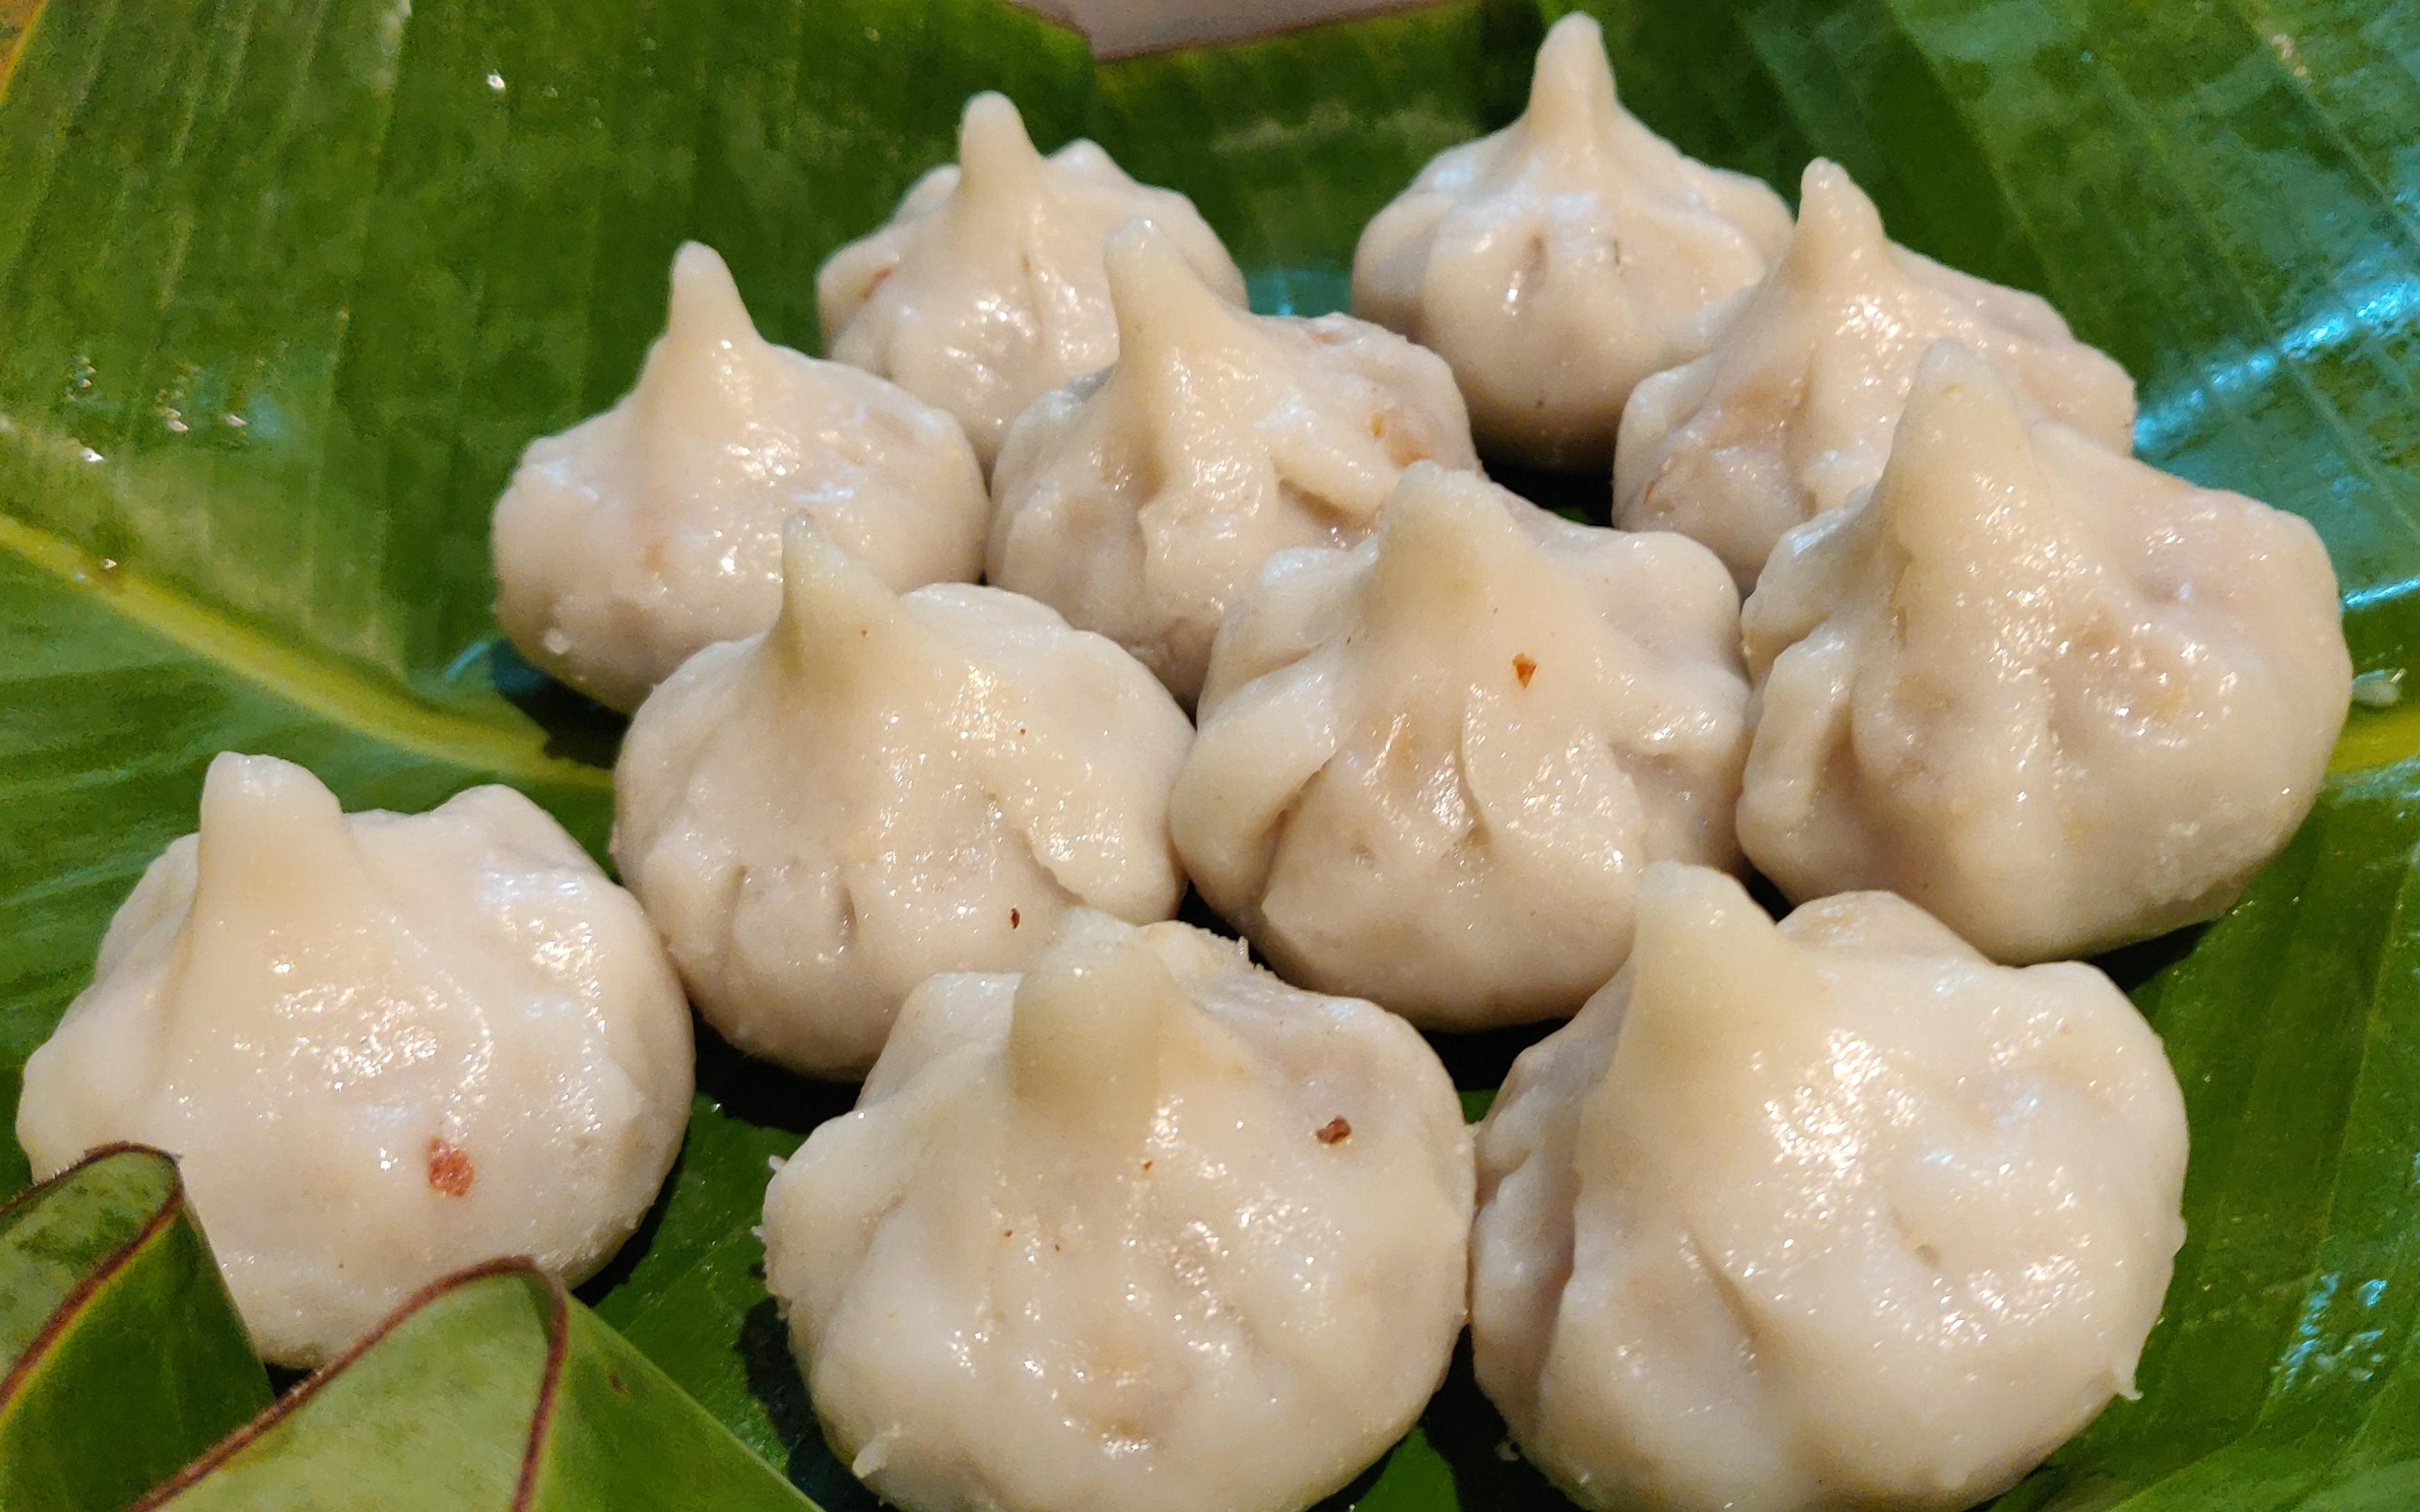modak: (1491, 857, 2204, 1512), (772, 867, 1488, 1512), (1779, 321, 2410, 986), (19, 786, 763, 1310), (1082, 470, 1833, 984), (615, 530, 1235, 993), (965, 214, 1505, 610), (528, 247, 1028, 653)
